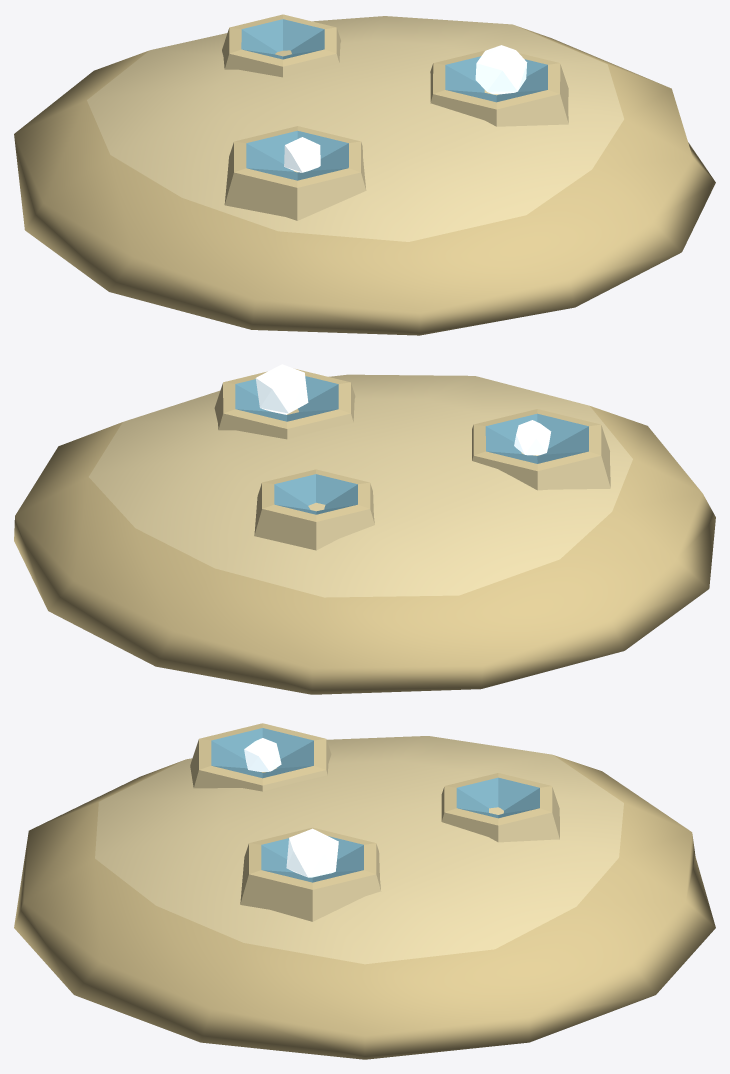
File: spring-vent.glb
3 views of the same model, one above another, from view 1: azimuth 30°, elevation 25°; view 2: azimuth 150°, elevation 25°; view 3: azimuth 270°, elevation 25° (orthographic).
Visible parts, largest first — view 1: spring-vent; view 2: spring-vent; view 3: spring-vent.
Part boxes in pixels (x1=…): spring-vent: x1=14, y1=14, x2=715, y2=335; spring-vent: x1=14, y1=364, x2=715, y2=694; spring-vent: x1=14, y1=723, x2=715, y2=1059.
Bounding box in the file's own units: 5 × 1.07 × 5.
